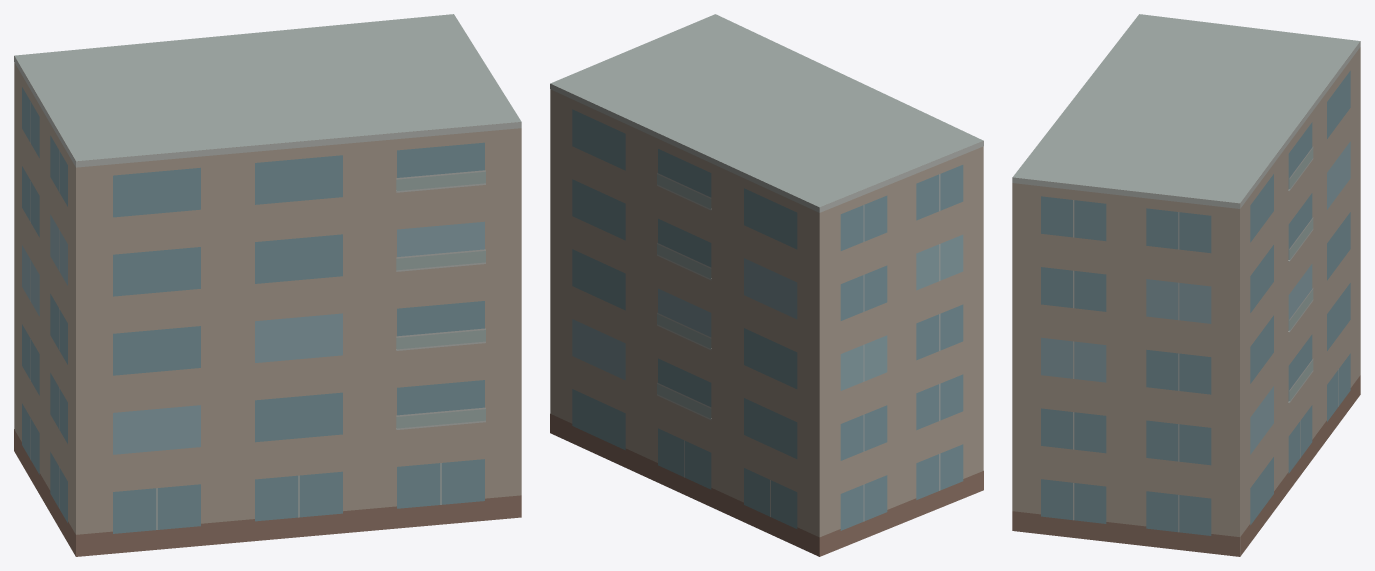
File: survey-upis-32872766.glb
3 views of the same model, side by side, from view 1: azimuth 30°, elevation 25°; view 2: azimuth 150°, elevation 25°; view 3: azimuth 270°, elevation 25° (orthographic). The views are drawn at different scales.
Visible parts, largest first — view 1: survey-upis-32872766.tmp; view 2: survey-upis-32872766.tmp; view 3: survey-upis-32872766.tmp.
Part boxes in pixels (box(x1,y1,x2,y2)): survey-upis-32872766.tmp: box(14, 14, 521, 556); survey-upis-32872766.tmp: box(550, 14, 983, 556); survey-upis-32872766.tmp: box(1012, 14, 1360, 556).
Bounding box in the file's own units: 17.59 × 15.3 × 13.67.
